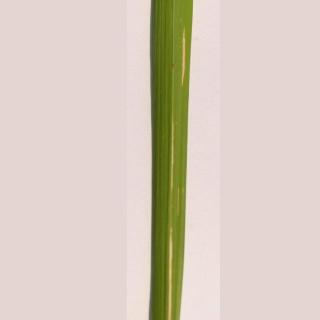Hawar-Daun: (140, 39, 213, 320)
